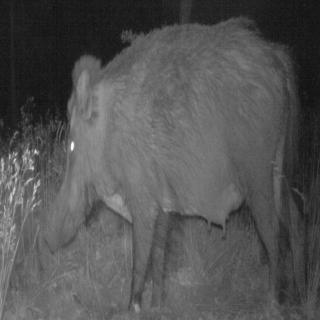Pig: (44, 12, 320, 290)
